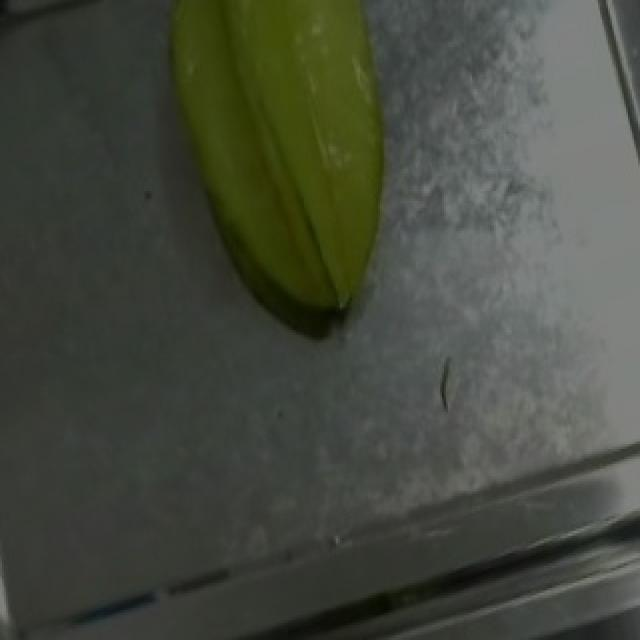fruit: (136, 0, 454, 325)
